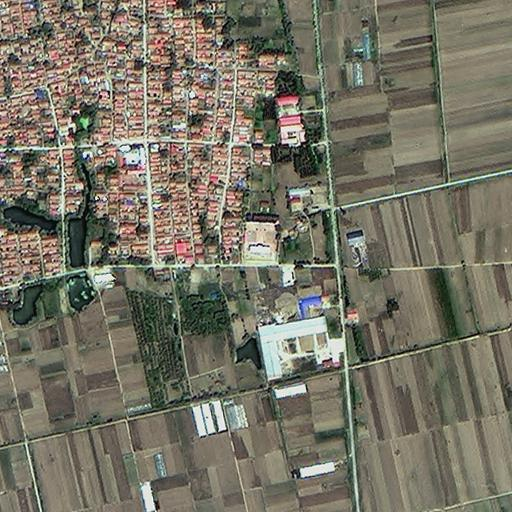school: (240, 219, 278, 262)
